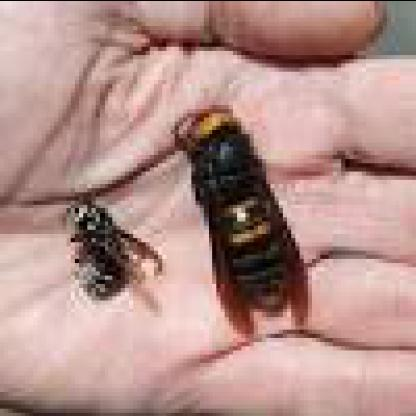asian: (166, 95, 296, 328)
